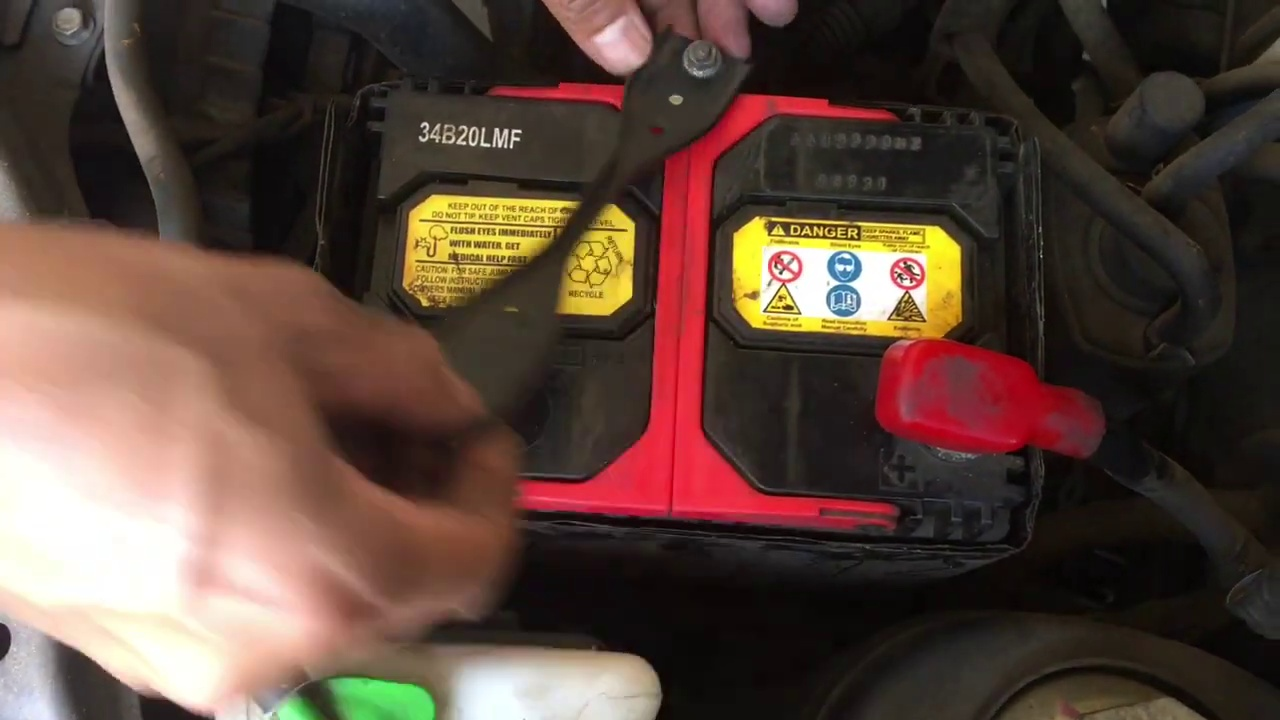battery: (338, 59, 1059, 561)
pos_connected: (862, 318, 1110, 475)
